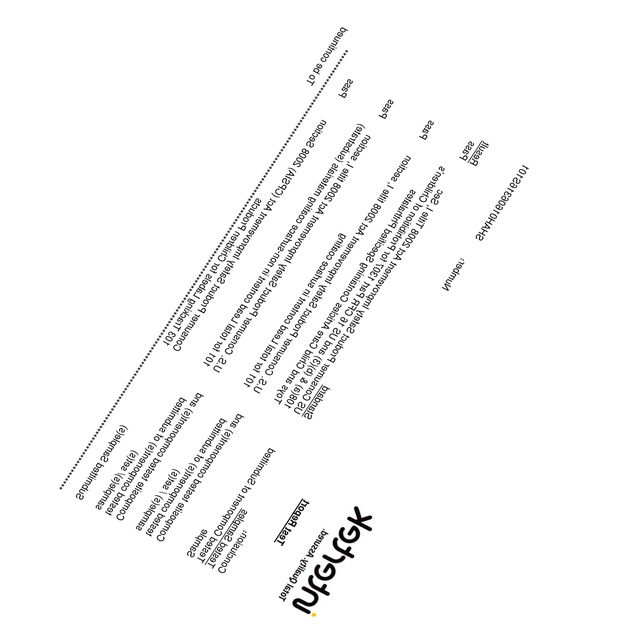intertek: (291, 503, 376, 620)
